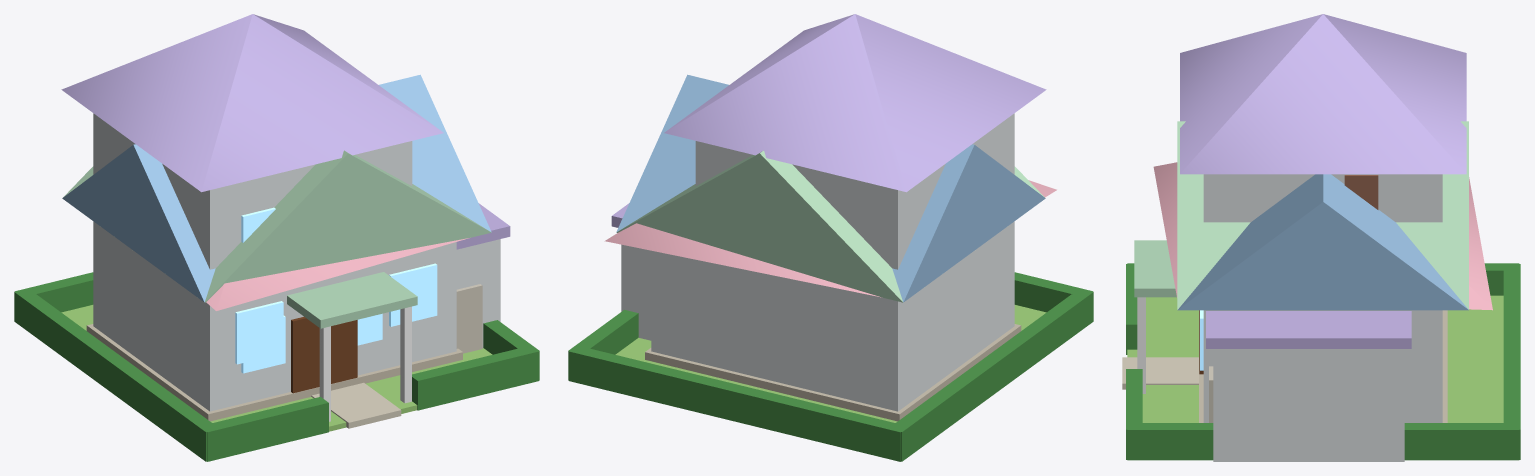
File: houses.glb
The picture shows the model from 3 angles, left to right: view 1: azimuth 30°, elevation 25°; view 2: azimuth 150°, elevation 25°; view 3: azimuth 270°, elevation 25°; orthographic projection. The views are drawn at different scales.
Parts seen in each view (by area): view 1: h2, h0, h3, h1; view 2: h0, h2, h3, h1; view 3: h2, h0, h3, h1.
Part boxes in pixels (<box>): h2: <box>61,14,510,421</box>; h0: <box>14,74,539,461</box>; h3: <box>63,150,491,421</box>; h1: <box>206,238,469,310</box>; h0: <box>568,74,1093,461</box>; h2: <box>611,14,1046,421</box>; h3: <box>616,150,1044,302</box>; h1: <box>604,180,1056,297</box>; h2: <box>1180,14,1466,461</box>; h0: <box>1122,174,1520,460</box>; h3: <box>1134,121,1468,393</box>; h1: <box>1153,162,1492,310</box>.
Bounding box in the file's own units: 8.48 × 8.1 × 8.33.
